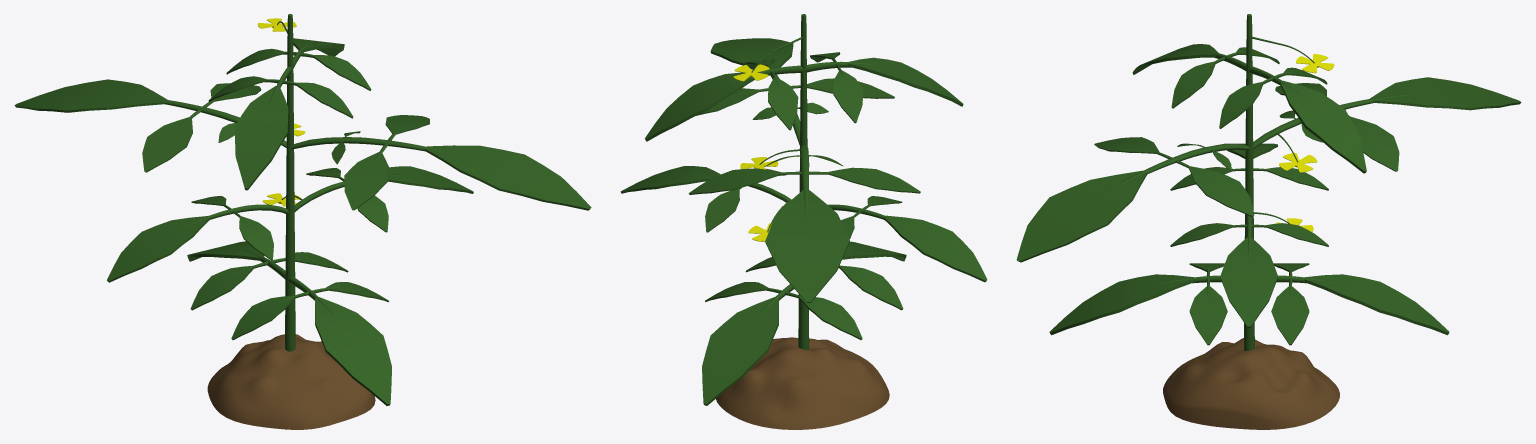
File: TOMATO_flowering.fbx
3 views of the same model, side by side, from view 1: azimuth 30°, elevation 25°; view 2: azimuth 150°, elevation 25°; view 3: azimuth 270°, elevation 25° (orthographic).
Visible parts, largest first — view 1: pCube31; view 2: pCube31; view 3: pCube31.
Part boxes in pixels (x1=…): pCube31: x1=14, y1=14, x2=591, y2=429; pCube31: x1=620, y1=14, x2=987, y2=429; pCube31: x1=1016, y1=14, x2=1521, y2=429.
Bounding box in the file's own units: 2.38 × 2.33 × 2.81.
